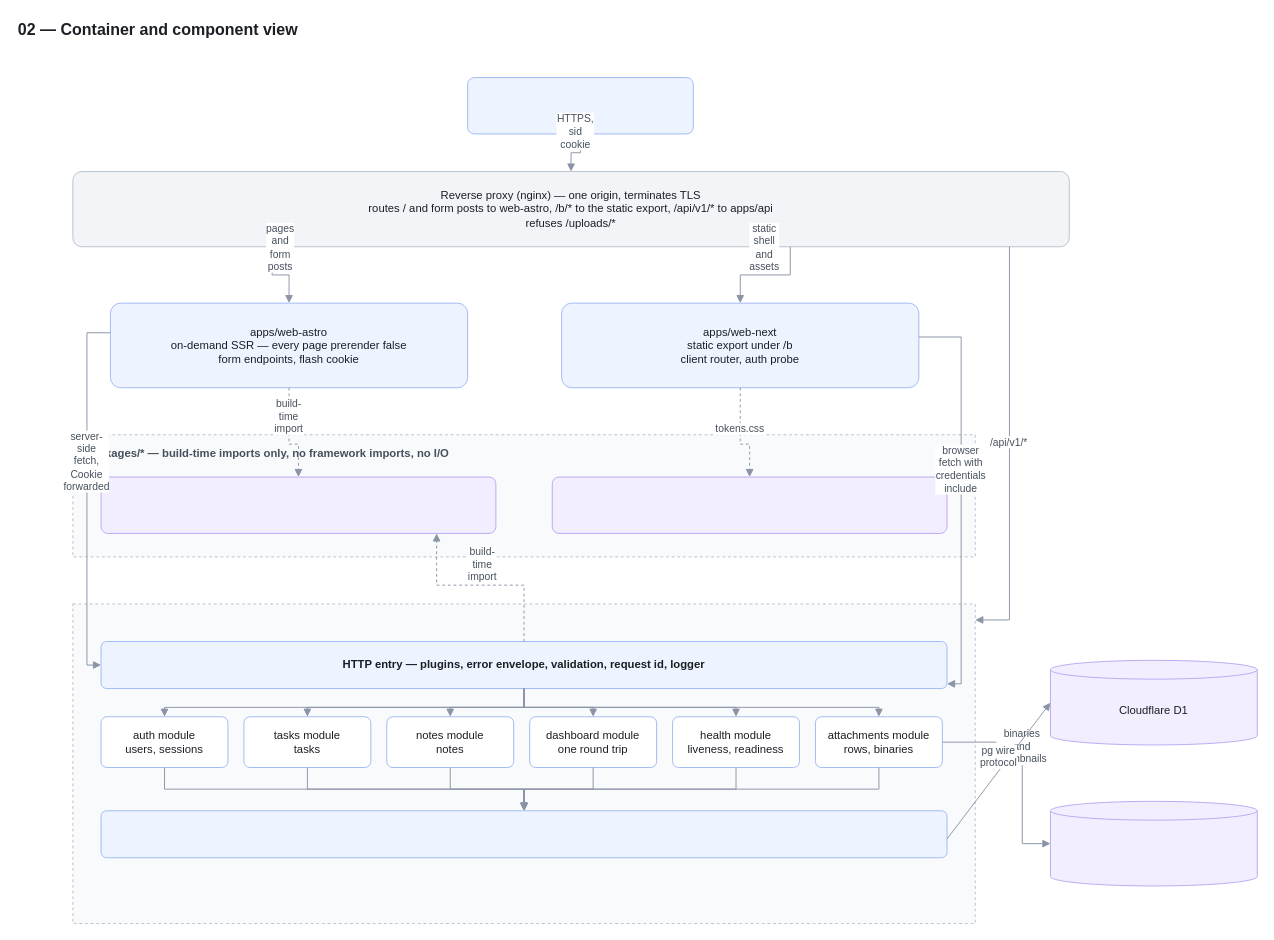
Image size: 1274x940. Some labels were removed from this diagram. Here are the shapes that lost their labels. From the top down, the box of each, then its label:
(467, 77, 693, 134): Browser — one origin
(100, 476, 496, 533): contracts types, Zod schemas, error codes, copy, route constants
(551, 476, 947, 533): design-tokens tokens.css and tokens.json
(72, 603, 975, 924): apps/api — Elysia on Cloudflare Workers
(100, 810, 947, 858): db — pg Pool (max 10), parameterized SQL, one query per list, keyset cursor
(1050, 800, 1257, 886): Upload storage R2 bucket
